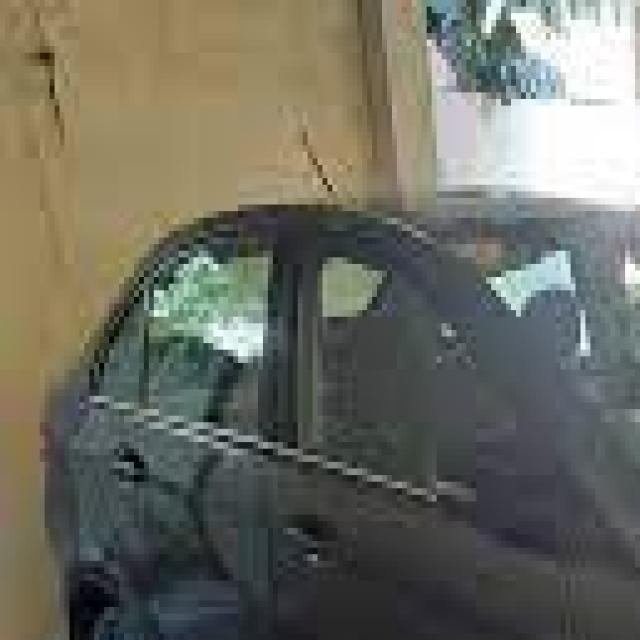car: (10, 132, 640, 640)
